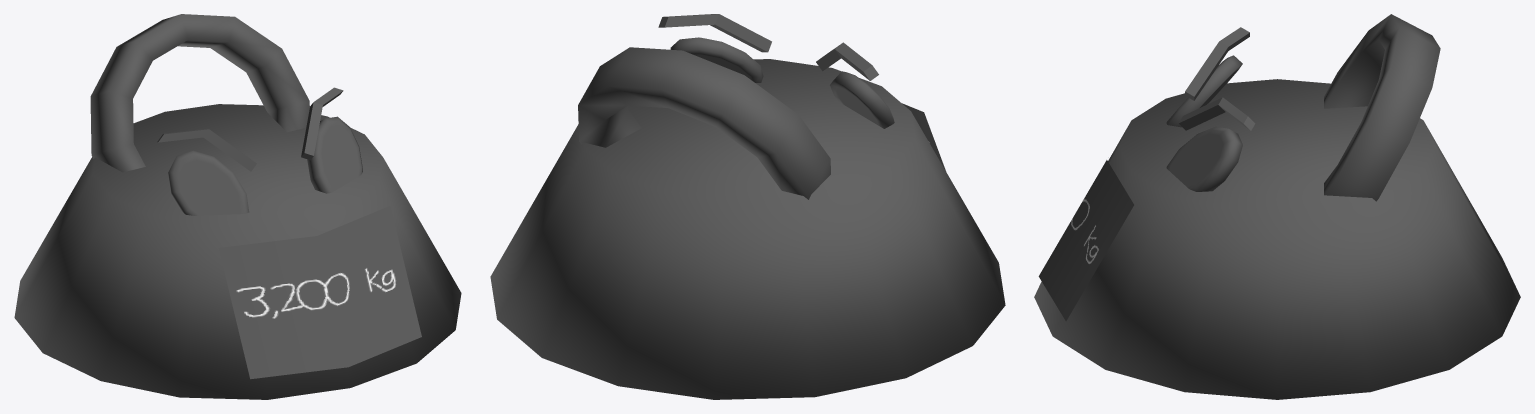
The model's file is Weight2.fbx.
The picture shows the model from 3 angles, left to right: view 1: azimuth 30°, elevation 25°; view 2: azimuth 150°, elevation 25°; view 3: azimuth 270°, elevation 25°; orthographic projection. The views are drawn at different scales.
Parts seen in each view (by area): view 1: Cube.000; view 2: Cube.000; view 3: Cube.000.
Part boxes in pixels (<box>): Cube.000: <box>14,14,461,399</box>; Cube.000: <box>490,14,1005,399</box>; Cube.000: <box>1034,14,1520,399</box>.
Bounding box in the file's own units: 100 × 61.21 × 100.
